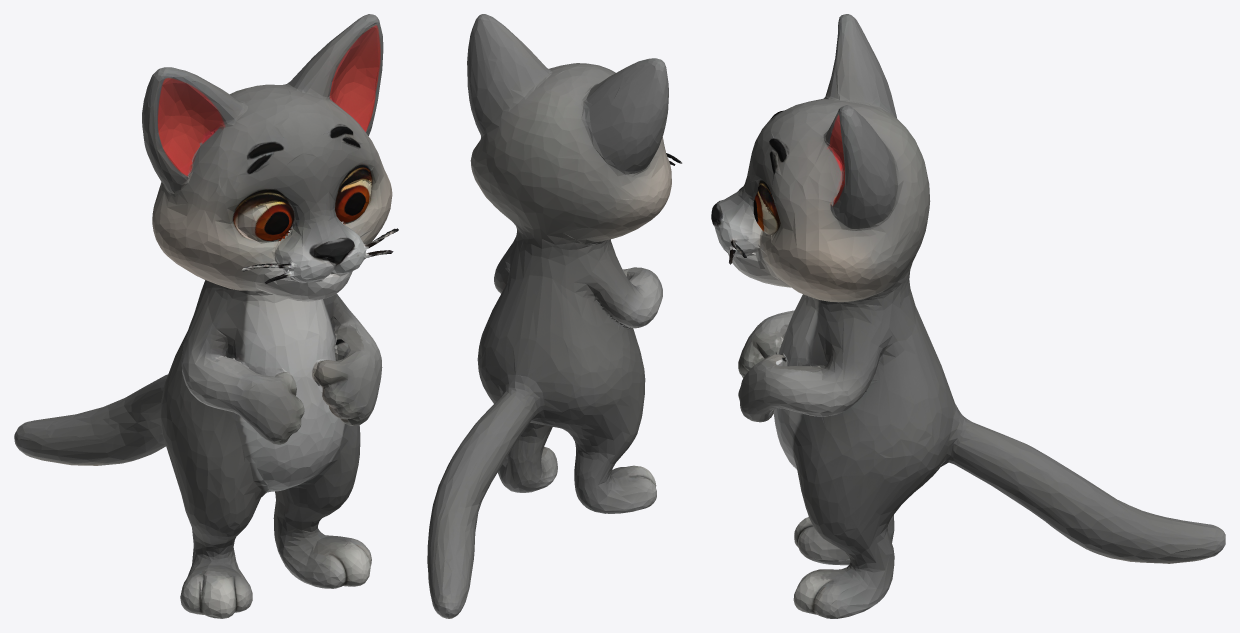
Rendered from npc_cat.glb.
3 views of the same model, side by side, from view 1: azimuth 30°, elevation 25°; view 2: azimuth 150°, elevation 25°; view 3: azimuth 270°, elevation 25° (orthographic). The views are drawn at different scales.
Parts seen in each view (by area): view 1: textured_mesh.obj; view 2: textured_mesh.obj; view 3: textured_mesh.obj.
Boxes of the visible parts, x1=… form: textured_mesh.obj: x1=14, y1=14, x2=398, y2=618; textured_mesh.obj: x1=427, y1=14, x2=682, y2=618; textured_mesh.obj: x1=711, y1=14, x2=1225, y2=618.
Bounding box in the file's own units: 0.899 × 1.99 × 1.78.
1 material, 1 textured.
